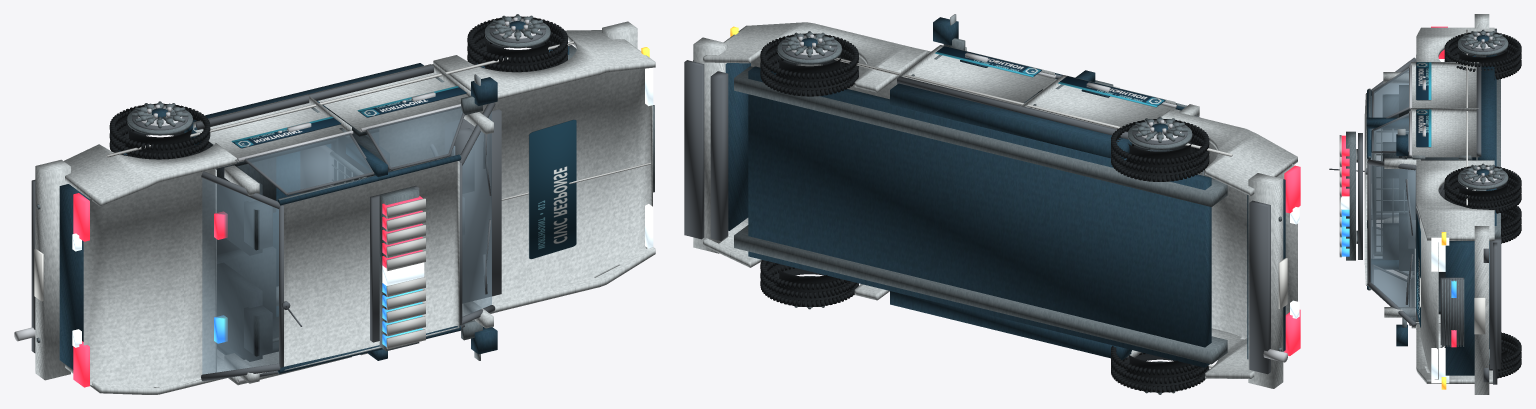
The model's file is POLICE_local.glb.
3 renders of one model, left to right at view 1: azimuth 30°, elevation 25°; view 2: azimuth 150°, elevation 25°; view 3: azimuth 270°, elevation 25°, orthographic. The views are drawn at different scales.
Parts seen in each view (by area): view 1: HOOD_CURVED_PANELS, TRUNK_LID_WIDE, ROOF_CURVED_ELECTROCOATED_PANEL, REAR_SAFETY_WINDSHIELD, HOOD_CIVIC_PATROL_INSIGNIA, FRONT_DASHBOARD_TOP, BODY_FRONT_FENDER_L, BODY_REAR_FENDER_L, REAR_BUMPER_SHELL, FRONT_SAFETY_WINDSHIELD, REAR_DOOR_GLASS_1, FRONT_DOOR_SKIN_1 (+42 smaller); view 2: CHASSIS_CENTER_FLOORPAN, CHASSIS_SIDE_RAIL_-1, CHASSIS_SIDE_RAIL_1, TRUNK_LID_WIDE, ROCKER_SILL_1, BODY_FRONT_FENDER_L, BODY_REAR_FENDER_L, FRONT_DOOR_SKIN_1, FRONT_LOWER_SPLITTER, REAR_LOWER_DIFFUSER, REAR_BUMPER_SHELL, REAR_DOOR_SKIN_1 (+23 smaller); view 3: FRONT_SAFETY_WINDSHIELD, BODY_FRONT_FENDER_L, FRONT_CORE_IMPACT_BAR, FRONT_DOOR_SKIN_1, REAR_DOOR_SKIN_1, FRONT_BUMPER_SHELL, HOOD_CURVED_PANELS, WHEEL_FRONT_1_TREAD_BLOCKS, ROCKER_SILL_1, BODY_REAR_FENDER_L, WHEEL_REAR_1_TREAD_BLOCKS, REAR_DOOR_GLASS_1 (+53 smaller).
Part boxes in pixels (left/top/right/bottom): HOOD_CURVED_PANELS: left=379, top=68, right=652, bottom=316; TRUNK_LID_WIDE: left=83, top=169, right=216, bottom=387; ROOF_CURVED_ELECTROCOATED_PANEL: left=282, top=161, right=459, bottom=370; REAR_SAFETY_WINDSHIELD: left=202, top=178, right=278, bottom=374; HOOD_CIVIC_PATROL_INSIGNIA: left=529, top=119, right=576, bottom=259; FRONT_DASHBOARD_TOP: left=445, top=109, right=501, bottom=303; BODY_FRONT_FENDER_L: left=433, top=30, right=655, bottom=99; BODY_REAR_FENDER_L: left=64, top=143, right=236, bottom=206; REAR_BUMPER_SHELL: left=35, top=159, right=70, bottom=380; FRONT_SAFETY_WINDSHIELD: left=462, top=112, right=491, bottom=316; REAR_DOOR_GLASS_1: left=247, top=134, right=372, bottom=192; FRONT_DOOR_SKIN_1: left=316, top=64, right=470, bottom=132; CHASSIS_CENTER_FLOORPAN: left=748, top=66, right=1211, bottom=367; CHASSIS_SIDE_RAIL_-1: left=734, top=225, right=1227, bottom=364; CHASSIS_SIDE_RAIL_1: left=734, top=66, right=1227, bottom=206; TRUNK_LID_WIDE: left=1197, top=142, right=1297, bottom=339; ROCKER_SILL_1: left=890, top=83, right=1131, bottom=158; BODY_FRONT_FENDER_L: left=703, top=22, right=927, bottom=92; BODY_REAR_FENDER_L: left=1161, top=110, right=1297, bottom=196; FRONT_DOOR_SKIN_1: left=897, top=45, right=1054, bottom=105; FRONT_LOWER_SPLITTER: left=684, top=60, right=704, bottom=239; REAR_LOWER_DIFFUSER: left=1249, top=200, right=1270, bottom=374; REAR_BUMPER_SHELL: left=1248, top=173, right=1283, bottom=388; REAR_DOOR_SKIN_1: left=1020, top=75, right=1175, bottom=129; FRONT_SAFETY_WINDSHIELD: left=1370, top=165, right=1415, bottom=324; BODY_FRONT_FENDER_L: left=1416, top=160, right=1494, bottom=240; FRONT_CORE_IMPACT_BAR: left=1445, top=241, right=1474, bottom=375; FRONT_DOOR_SKIN_1: left=1411, top=108, right=1479, bottom=157; REAR_DOOR_SKIN_1: left=1411, top=62, right=1478, bottom=107; FRONT_BUMPER_SHELL: left=1474, top=226, right=1489, bottom=394; HOOD_CURVED_PANELS: left=1414, top=145, right=1438, bottom=379; WHEEL_FRONT_1_TREAD_BLOCKS: left=1444, top=165, right=1521, bottom=213; ROCKER_SILL_1: left=1478, top=66, right=1494, bottom=160; BODY_REAR_FENDER_L: left=1416, top=27, right=1494, bottom=68; WHEEL_REAR_1_TREAD_BLOCKS: left=1444, top=32, right=1521, bottom=79; REAR_DOOR_GLASS_1: left=1374, top=69, right=1408, bottom=117.
Bounding box in the file's own units: 5.19 × 2.29 × 1.84.
18 materials, 6 textured.
